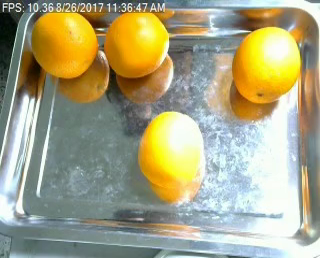Orange: (232, 25, 302, 104), (138, 110, 204, 186), (31, 8, 99, 78), (105, 9, 169, 78)
